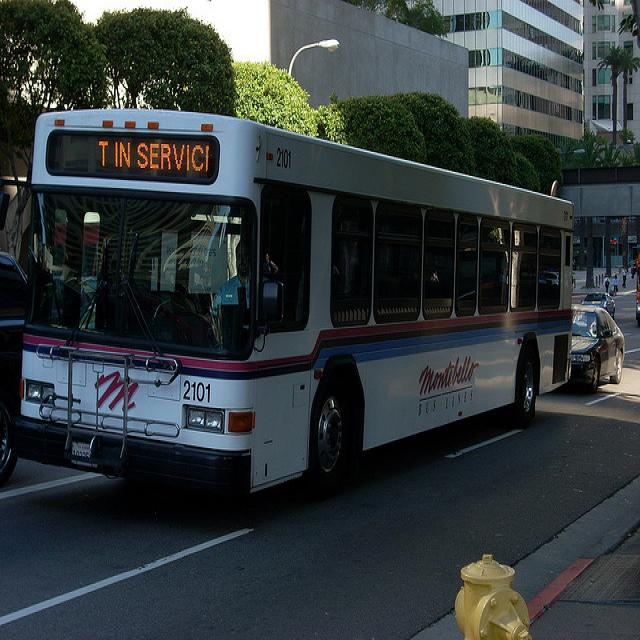Vehicle: (8, 108, 574, 499), (569, 304, 625, 393), (580, 292, 616, 319)
